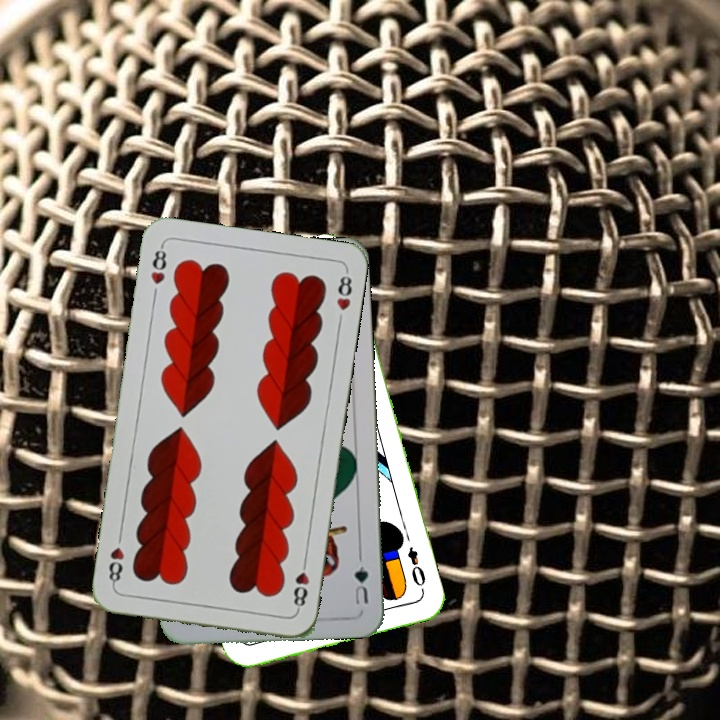EO: (403, 542, 428, 589)
GU: (350, 560, 371, 607)
H8: (289, 554, 312, 613), (146, 241, 169, 287)
